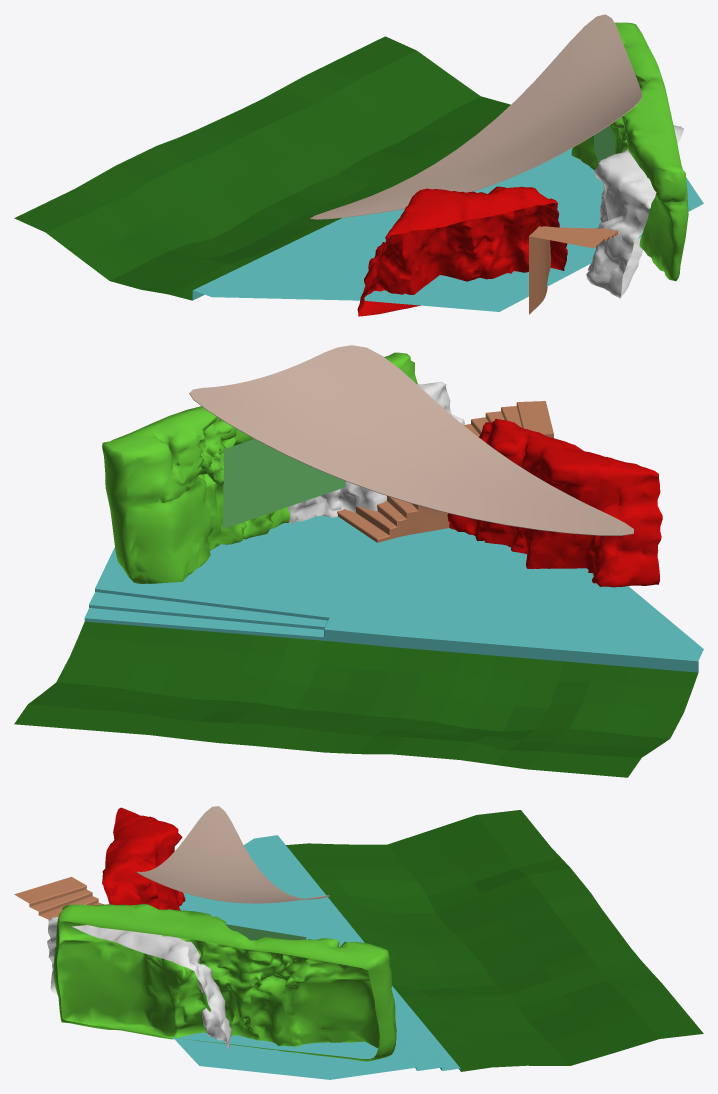
Rendered from Scene_01_Hide_Kulturbrott_02_Export_01.fbx.
3 views of the same model, one above another, from view 1: azimuth 30°, elevation 25°; view 2: azimuth 150°, elevation 25°; view 3: azimuth 270°, elevation 25° (orthographic). The views are drawn at different scales.
Parts seen in each view (by area): view 1: Ground, Cliff, Canopy, Stairs, Screen; view 2: Ground, Cliff, Canopy, Screen, Stairs; view 3: Ground, Cliff, Canopy, Stairs, Screen.
Boxes of the visible parts, left/top/right/bottom form: Ground: left=14, top=36, right=703, bottom=311; Cliff: left=357, top=22, right=688, bottom=316; Canopy: left=310, top=14, right=642, bottom=219; Stairs: left=529, top=226, right=617, bottom=314; Screen: left=593, top=125, right=615, bottom=162; Ground: left=14, top=515, right=703, bottom=777; Cliff: left=102, top=352, right=662, bottom=587; Canopy: left=189, top=345, right=633, bottom=535; Screen: left=223, top=439, right=345, bottom=528; Stairs: left=337, top=401, right=553, bottom=542; Ground: left=172, top=810, right=703, bottom=1079; Cliff: left=47, top=807, right=396, bottom=1061; Canopy: left=136, top=806, right=329, bottom=903; Stairs: left=14, top=877, right=104, bottom=922; Screen: left=225, top=924, right=306, bottom=940.
Size of what is drawn, in the model's own units: 2757 by 862 by 2946.
